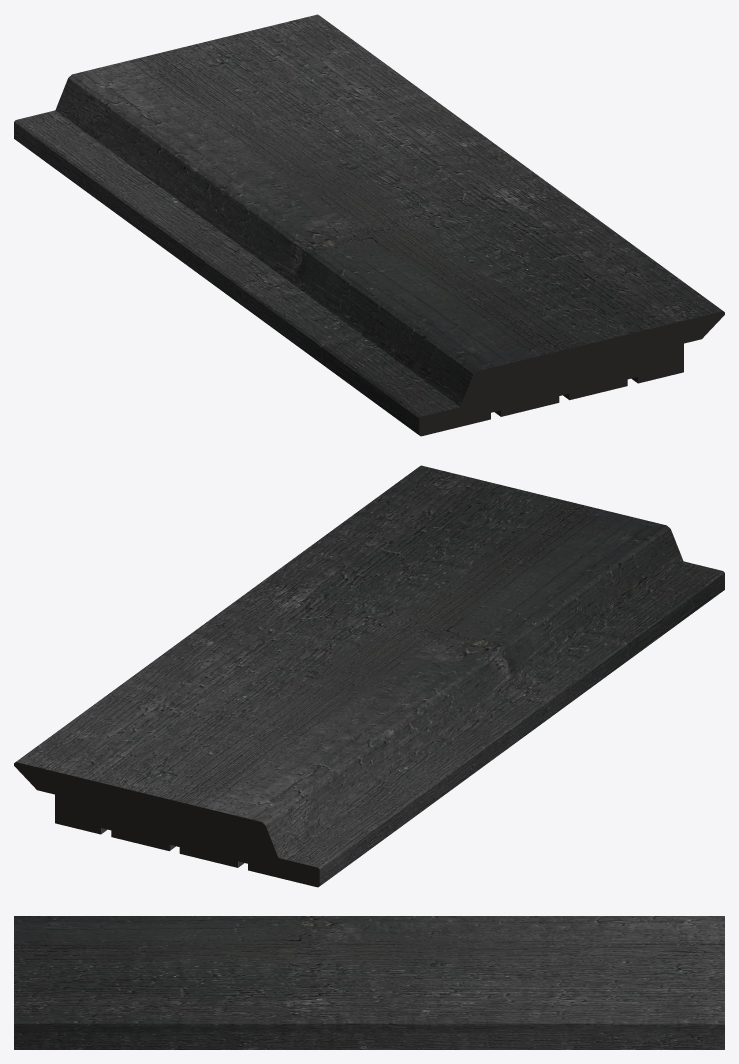
File: spruce-facade-half-tenon-45-carbon-light.glb
The picture shows the model from 3 angles, top to bottom: view 1: azimuth 30°, elevation 25°; view 2: azimuth 150°, elevation 25°; view 3: azimuth 270°, elevation 25°; orthographic projection. The views are drawn at different scales.
Parts seen in each view (by area): view 1: Pusė_Špunto_45; view 2: Pusė_Špunto_45; view 3: Pusė_Špunto_45.
Part boxes in pixels (x1,y1,x2,y2): Pusė_Špunto_45: (14,14,724,436); Pusė_Špunto_45: (14,465,724,887); Pusė_Špunto_45: (14,916,724,1049).
Bounding box in the file's own units: 0.0723 × 0.0117 × 0.166.
Materials: 3 (1 with a texture image).
